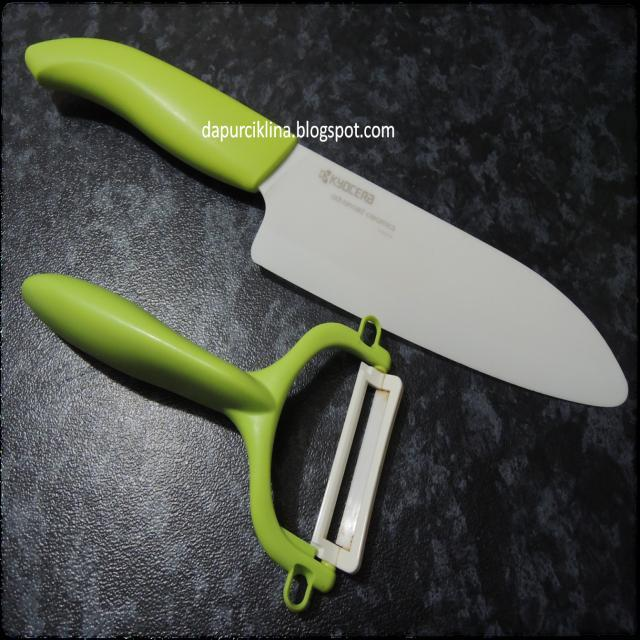Pisau: (17, 27, 635, 419)
